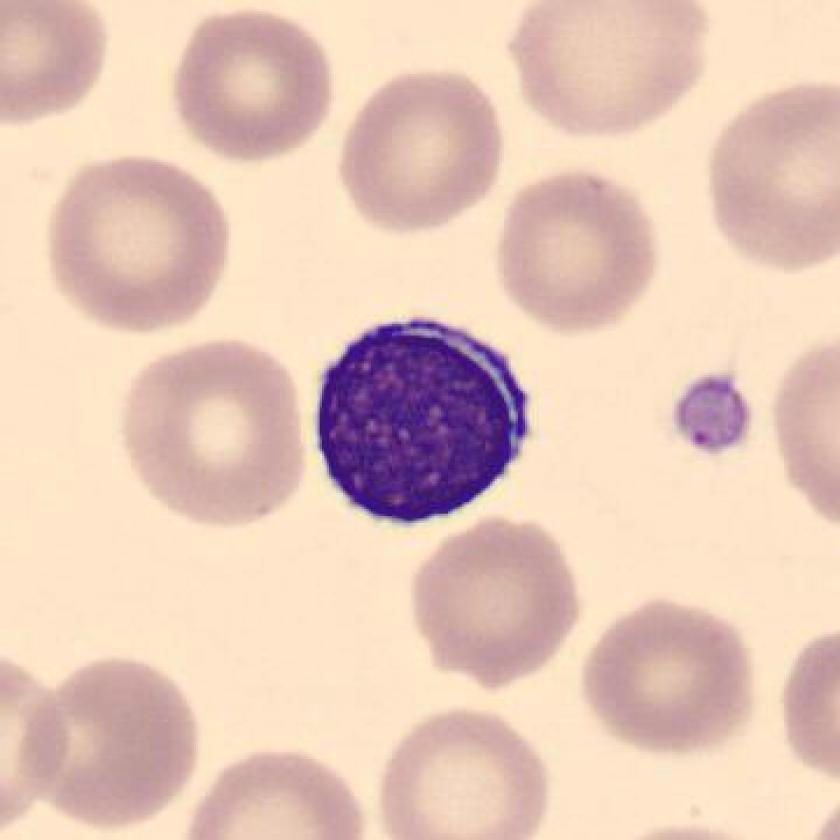lymphocyte: (302, 304, 554, 533)
